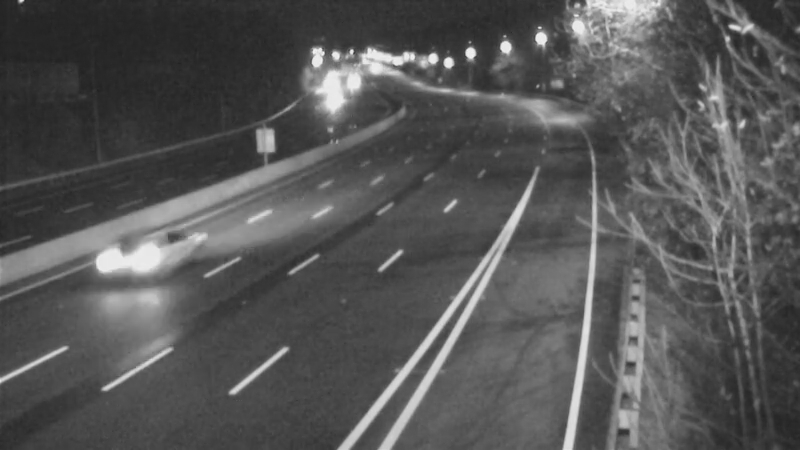vehicle: (108, 210, 188, 290), (309, 77, 359, 127), (332, 54, 382, 104)
